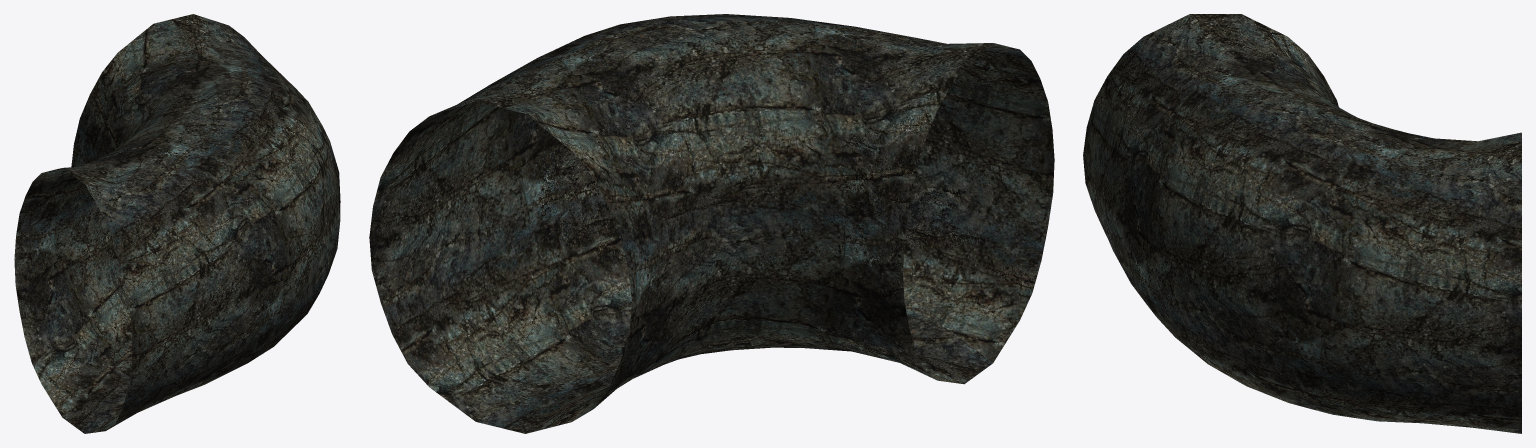
The model's file is tunnel_theta_turn_right_sharp.dae.
3 renders of one model, left to right at view 1: azimuth 30°, elevation 25°; view 2: azimuth 150°, elevation 25°; view 3: azimuth 270°, elevation 25°, orthographic. The views are drawn at different scales.
Visible parts, largest first — view 1: turn_right_sharp; view 2: turn_right_sharp; view 3: turn_right_sharp.
Part boxes in pixels (<box>): turn_right_sharp: <box>14,14,340,433</box>; turn_right_sharp: <box>369,14,1054,433</box>; turn_right_sharp: <box>1083,14,1521,433</box>.
Size of the model in its own units: 7.17 by 5.05 by 7.17.
